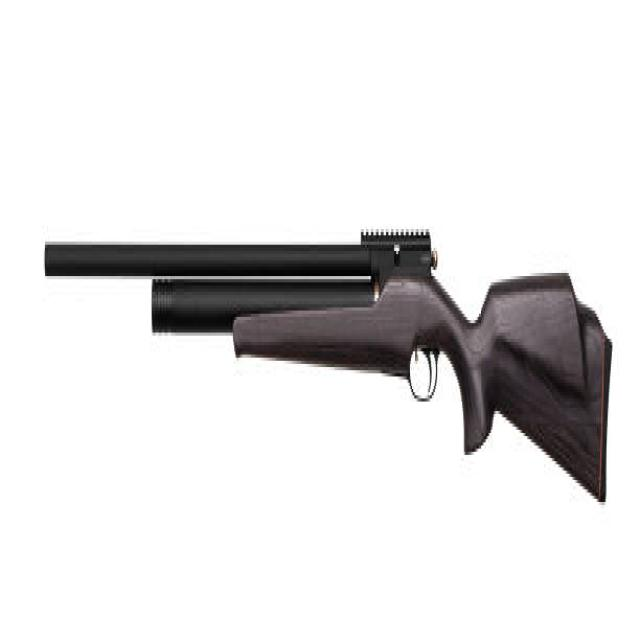rifle: (41, 169, 621, 517)
